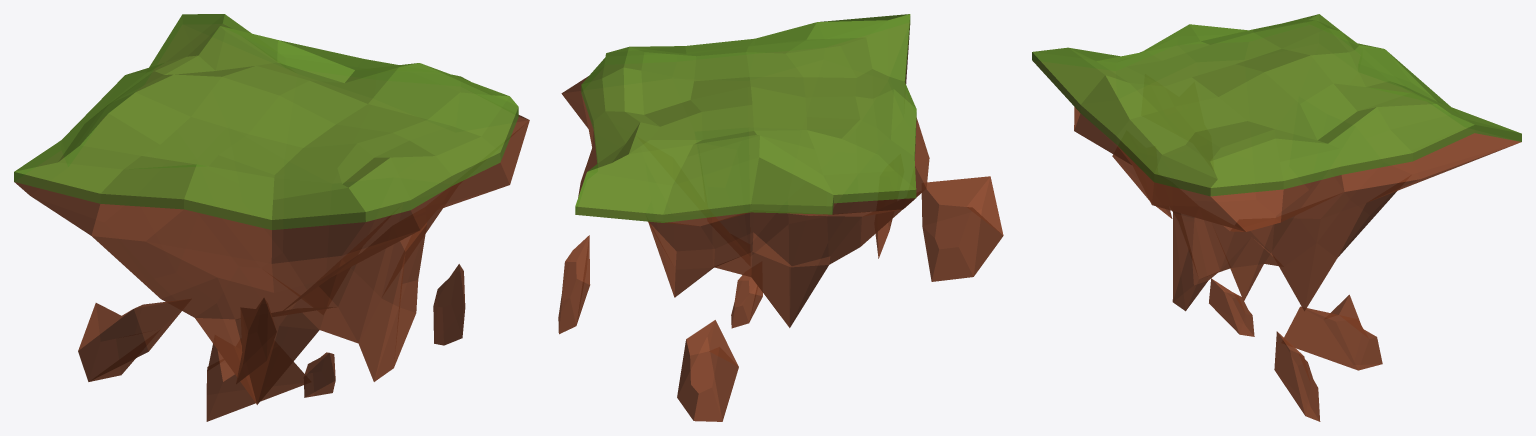
Rendered from Natures2L1.fbx.
The picture shows the model from 3 angles, left to right: view 1: azimuth 30°, elevation 25°; view 2: azimuth 150°, elevation 25°; view 3: azimuth 270°, elevation 25°; orthographic projection. The views are drawn at different scales.
Parts seen in each view (by area): view 1: L1; view 2: L1; view 3: L1.
Part boxes in pixels (<box>): L1: <box>14,14,529,421</box>; L1: <box>558,14,1003,421</box>; L1: <box>1032,14,1521,421</box>.
Bounding box in the file's own units: 1956 × 1390 × 2020.
